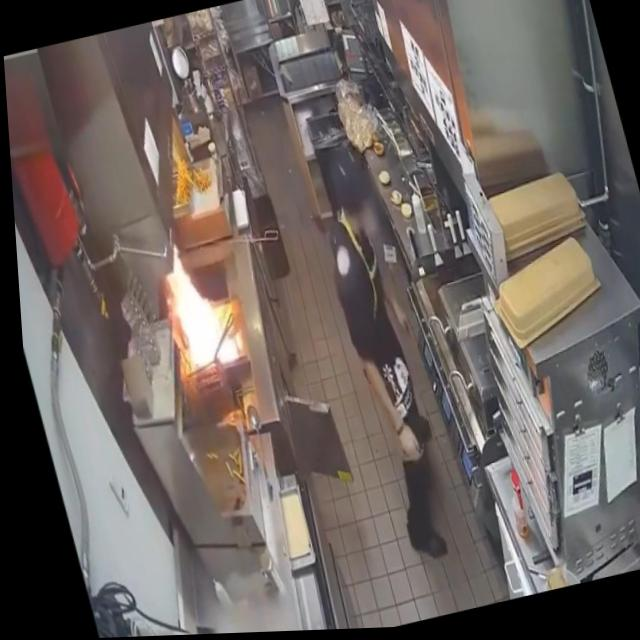fire: (145, 241, 230, 385)
